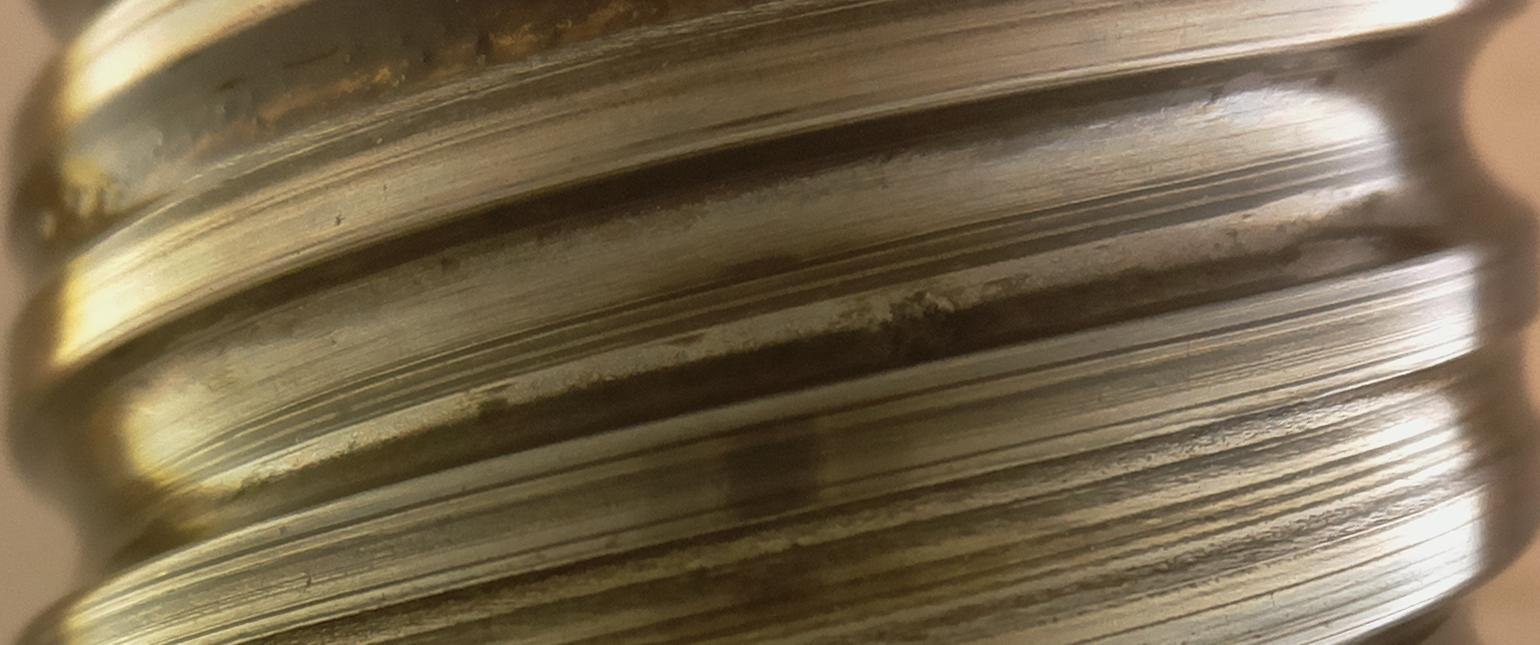pitting: (878, 299, 962, 364)
